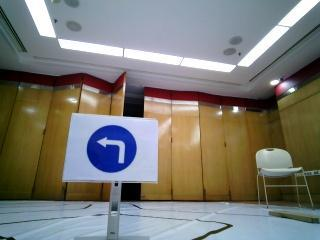left: (72, 112, 156, 182)
